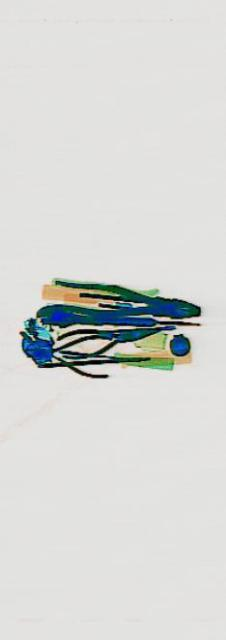Pliers: (35, 276, 199, 330), (54, 313, 157, 363), (38, 325, 107, 379)
